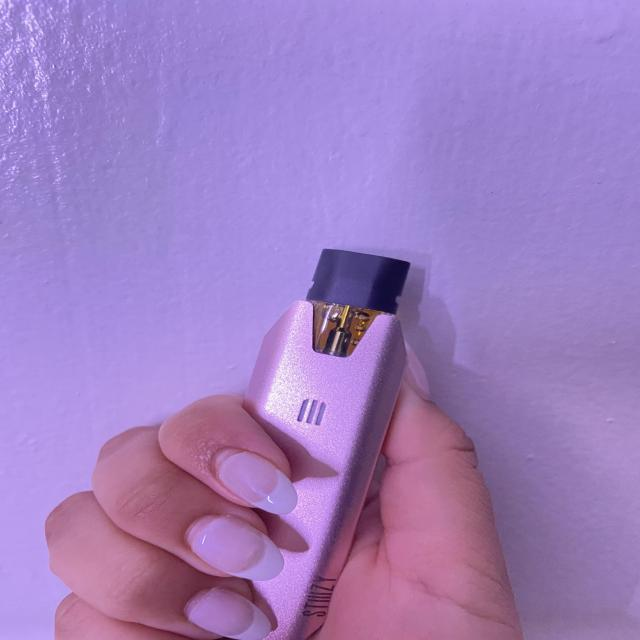Hazard: (182, 246, 411, 638)
